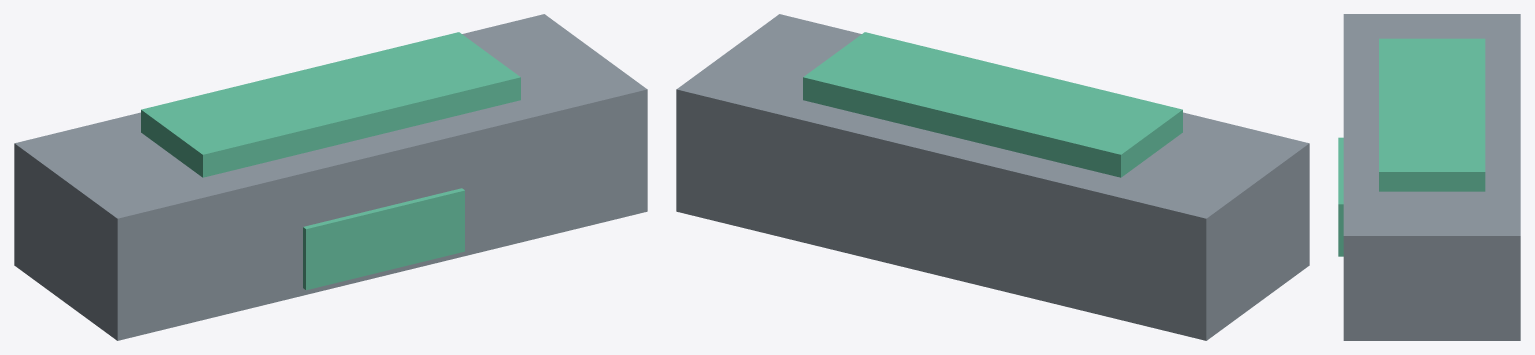
The model's file is CO_KazekiriCorvette_LOD0.glb.
The picture shows the model from 3 angles, left to right: view 1: azimuth 30°, elevation 25°; view 2: azimuth 150°, elevation 25°; view 3: azimuth 270°, elevation 25°; orthographic projection. The views are drawn at different scales.
Visible parts, largest first — view 1: EntranceGate; view 2: EntranceGate; view 3: EntranceGate.
Part boxes in pixels (bbox=[...]): EntranceGate: bbox=[14, 14, 647, 340]; EntranceGate: bbox=[676, 14, 1309, 340]; EntranceGate: bbox=[1338, 14, 1520, 340].
Size of the model in its own units: 980 by 257 by 340.
